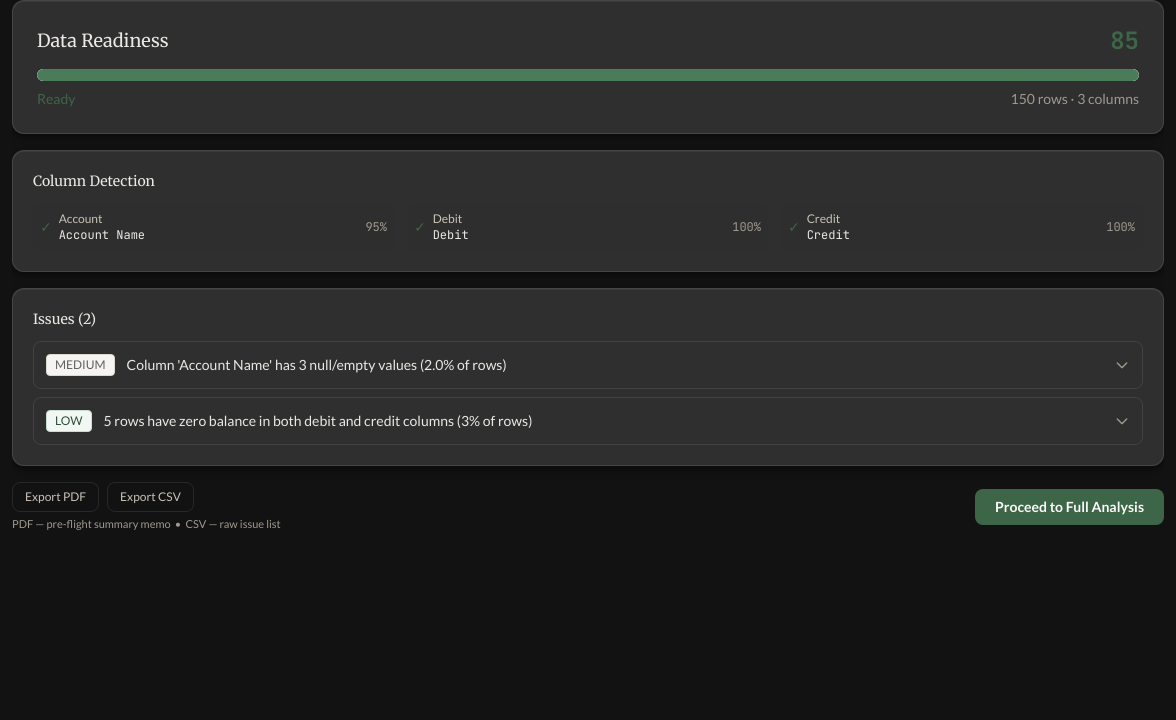
Test: PreFlightSummary › renders remediation guidance on expand
Click the button "Column 'Account Name' has 3 null" at x=80, y=365, box [34, 342, 1142, 388]
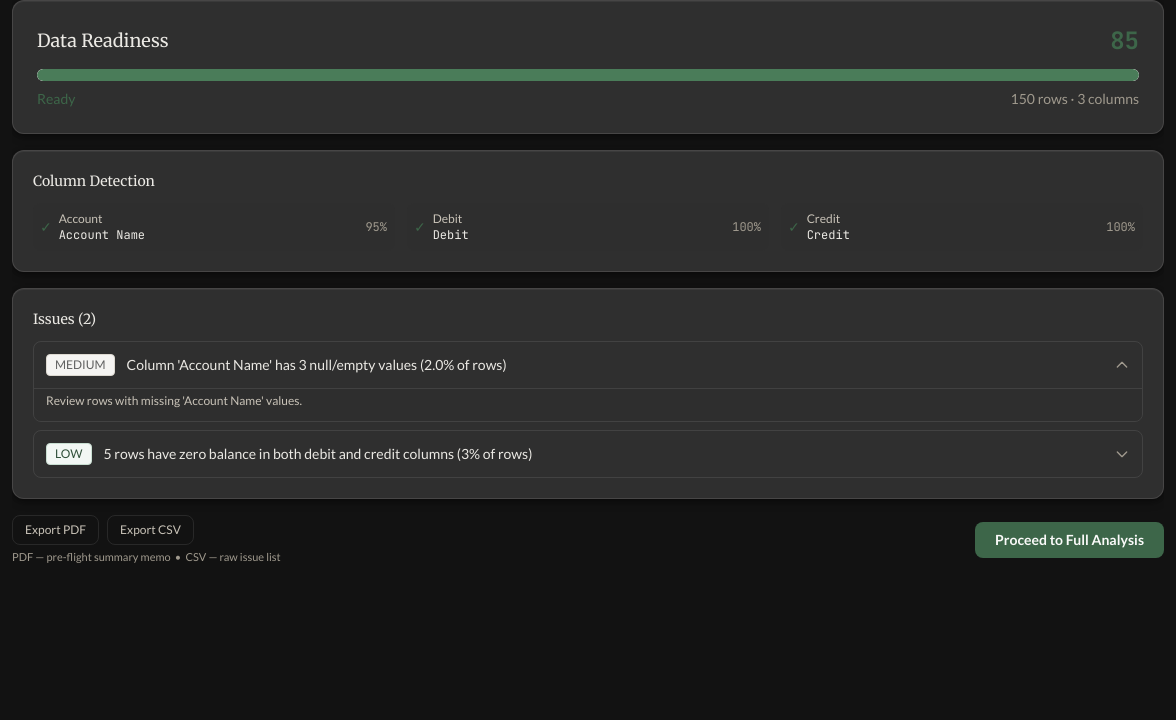
Result: the text "Review rows with missing 'Account Name' values." is shown at [46, 393, 302, 408]
